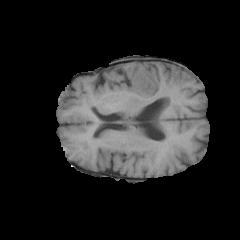glioma: (99, 63, 159, 103)
